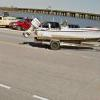Boat: (26, 17, 99, 67)
